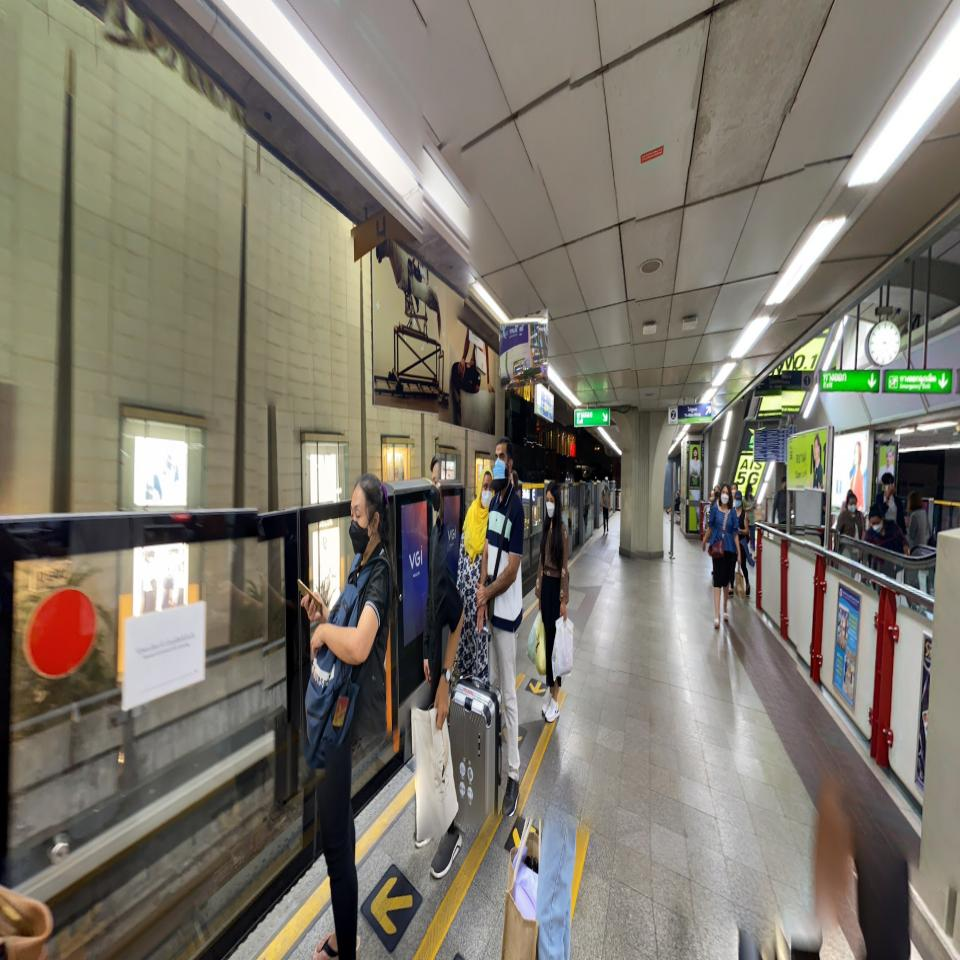signage: (786, 426, 830, 493)
